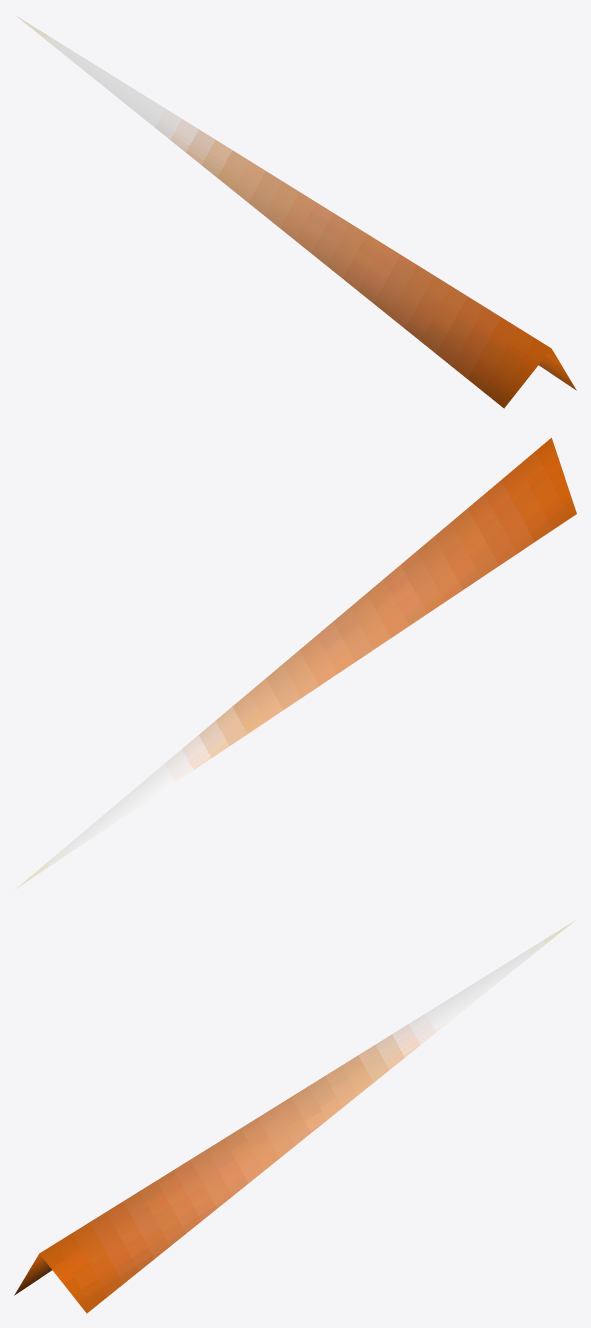
3 views of the same model, one above another, from view 1: azimuth 30°, elevation 25°; view 2: azimuth 150°, elevation 25°; view 3: azimuth 330°, elevation 25° (orthographic).
Parts seen in each view (by area): view 1: f250f2fa; view 2: f250f2fa; view 3: f250f2fa.
Part boxes in pixels (x1,y1,x2,y2): f250f2fa: [15, 15, 576, 408]; f250f2fa: [15, 438, 576, 889]; f250f2fa: [14, 920, 575, 1313].
Size of the model in its own units: 1.03 by 0.8 by 13.13.
1 material, 1 textured.
